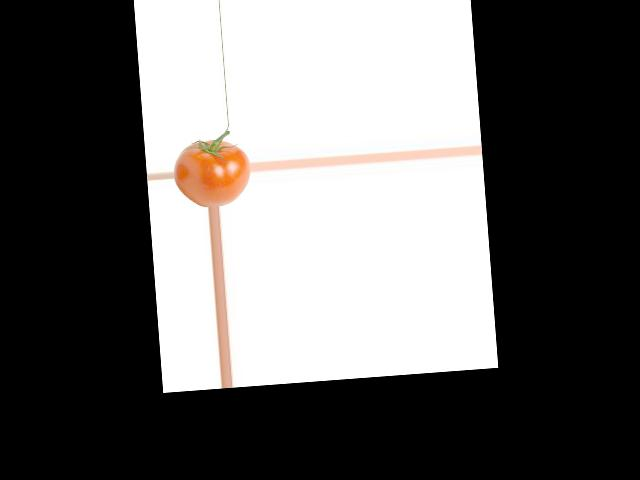tomato: (171, 136, 252, 208)
